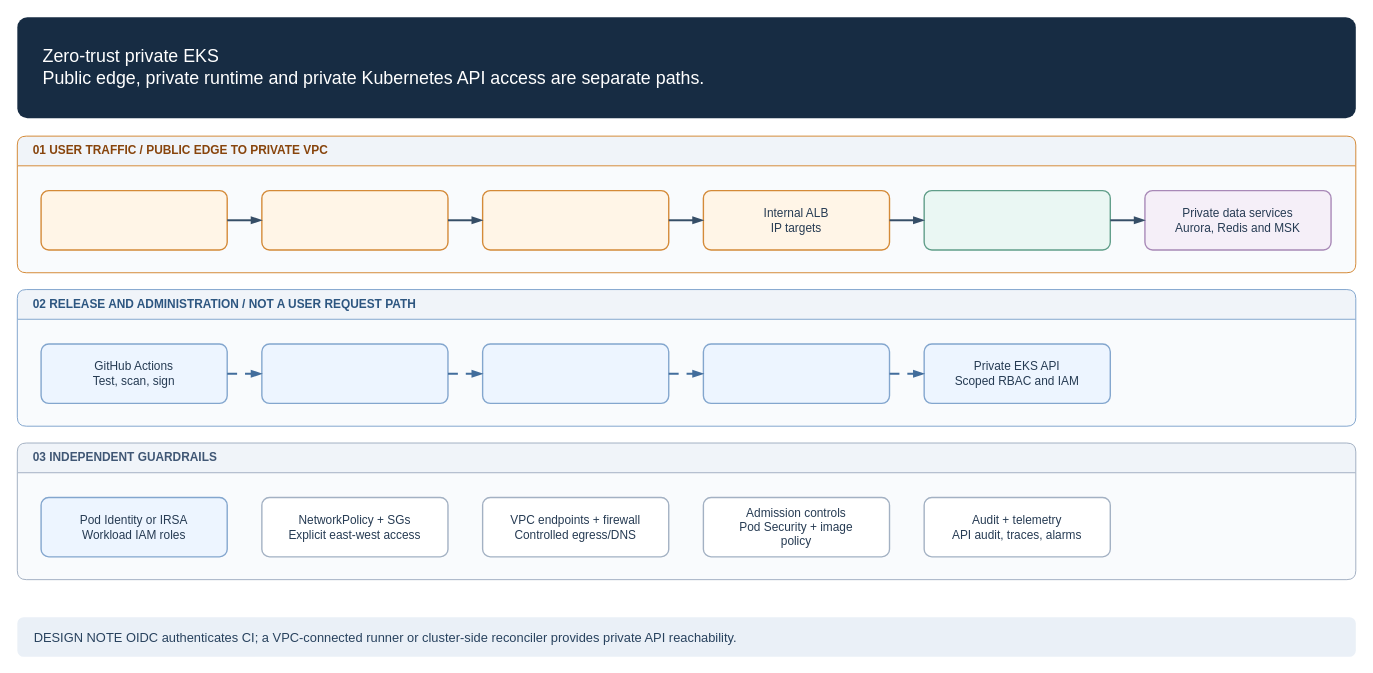
Some shapes in this 1373 by 673 pixel diagram are drawn without their labels. Here are the shapes that lost their labels. From the top down, the centre of each, then its label:
At point 133,219: "End users Route 53 resolves edge DNS".
At point 354,219: "CloudFront + WAF Public edge".
At point 575,219: "CloudFront VPC origin Private origin connection".
At point 1016,219: "EKS application Pods Private worker subnets".
At point 354,373: "Amazon ECR Publish immutable image".
At point 575,373: "Approved release Pin image digest".
At point 796,373: "VPC-connected runner Authorized deployer".
